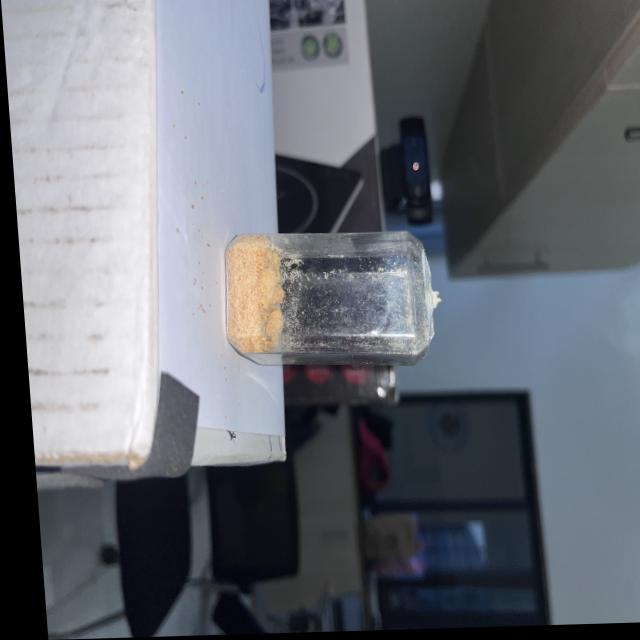garlic_powder: (214, 235, 287, 360)
